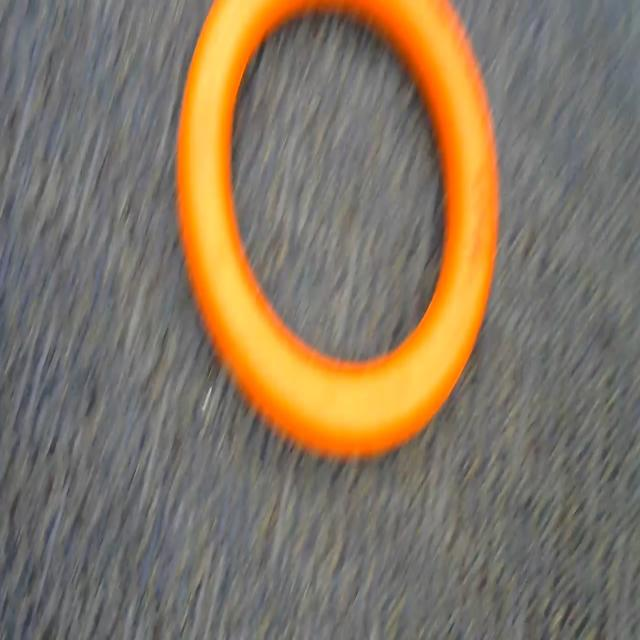note: (176, 0, 507, 492)
